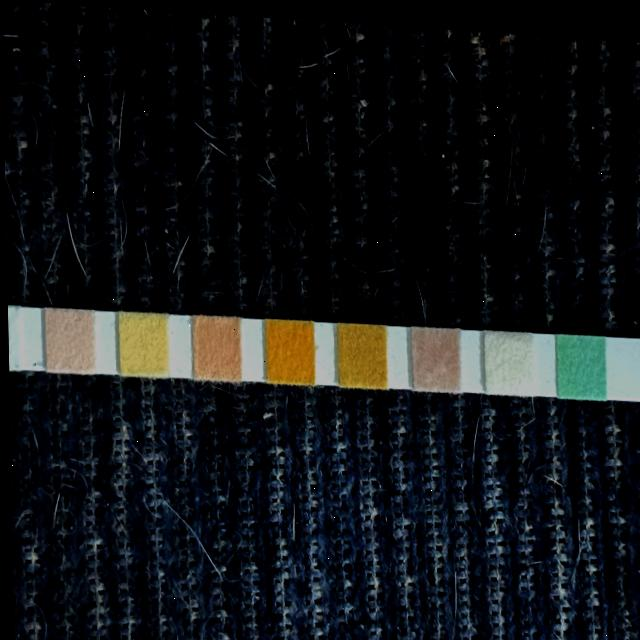Bilirubin: (482, 324, 531, 389)
Blood: (264, 315, 312, 380)
Glucose: (555, 327, 603, 392)
Ketone: (410, 320, 457, 385)
Nitrite: (5, 306, 18, 371)
Protein: (116, 309, 165, 375)
SpGravity: (336, 318, 384, 383)
Urobilinogen: (43, 307, 92, 373)
pH: (191, 313, 238, 379)
